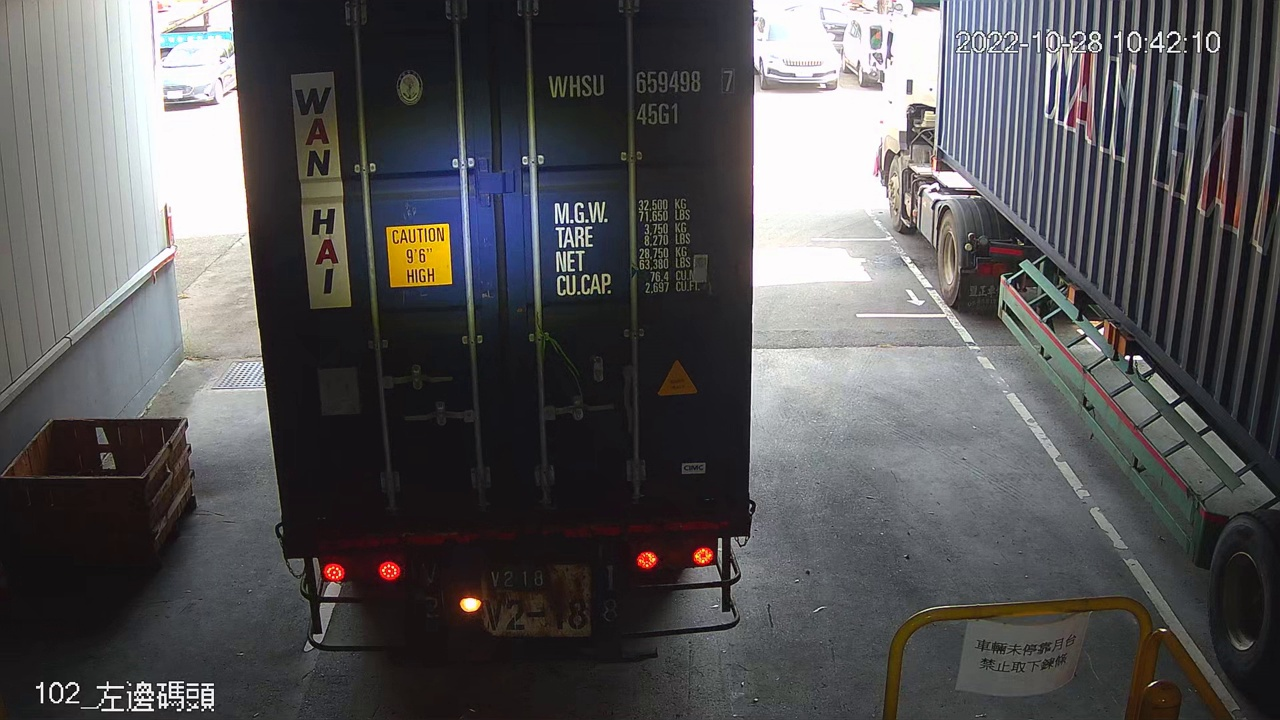container: (543, 62, 741, 136)
